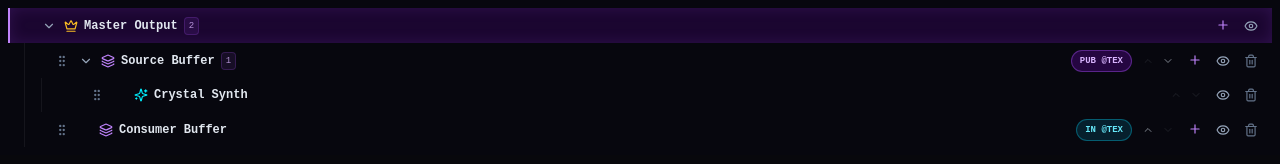
LayerTreeView Component › enables inline renaming on label double-click and commits on Enter
The image size is (1280, 164).
# Double-click to start inline rename
Double-click the text with test id "tree-label-synth-child" at (201, 95), box x1=154 y1=87 x2=248 y2=103
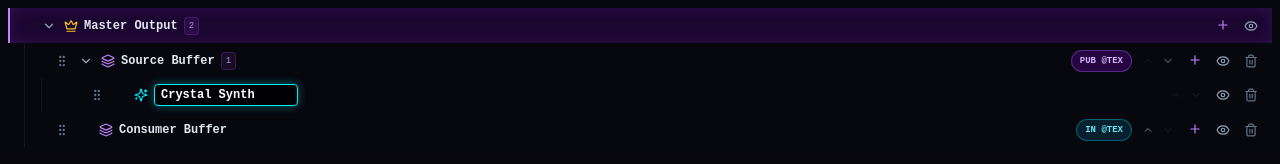
Expected: the field with test id "tree-rename-input-synth-child" is shown
Expected: the field with test id "tree-rename-input-synth-child" holds "Crystal Synth"
# Change input value and press Enter
Replace the text in the field with test id "tree-rename-input-synth-child" with "Quantum Synth" at (226, 95), box x1=154 y1=84 x2=298 y2=106
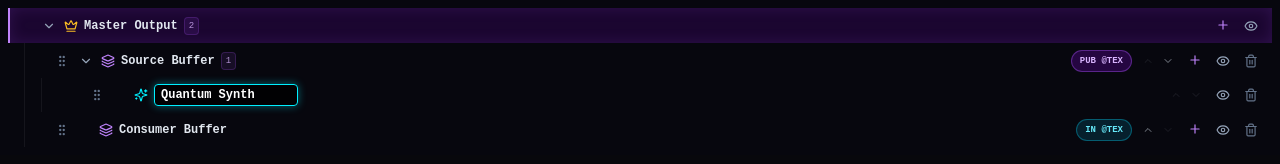
Press Enter in the field with test id "tree-rename-input-synth-child", box x1=154 y1=84 x2=298 y2=106
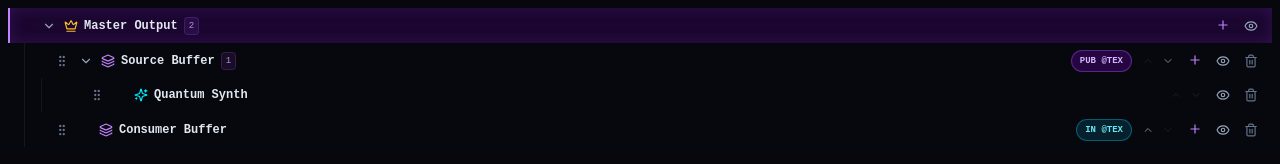
Expected: the field with test id "tree-rename-input-synth-child" is gone
Expected: the text with test id "tree-label-synth-child" reads "Quantum Synth", x1=154 y1=88 x2=248 y2=102
